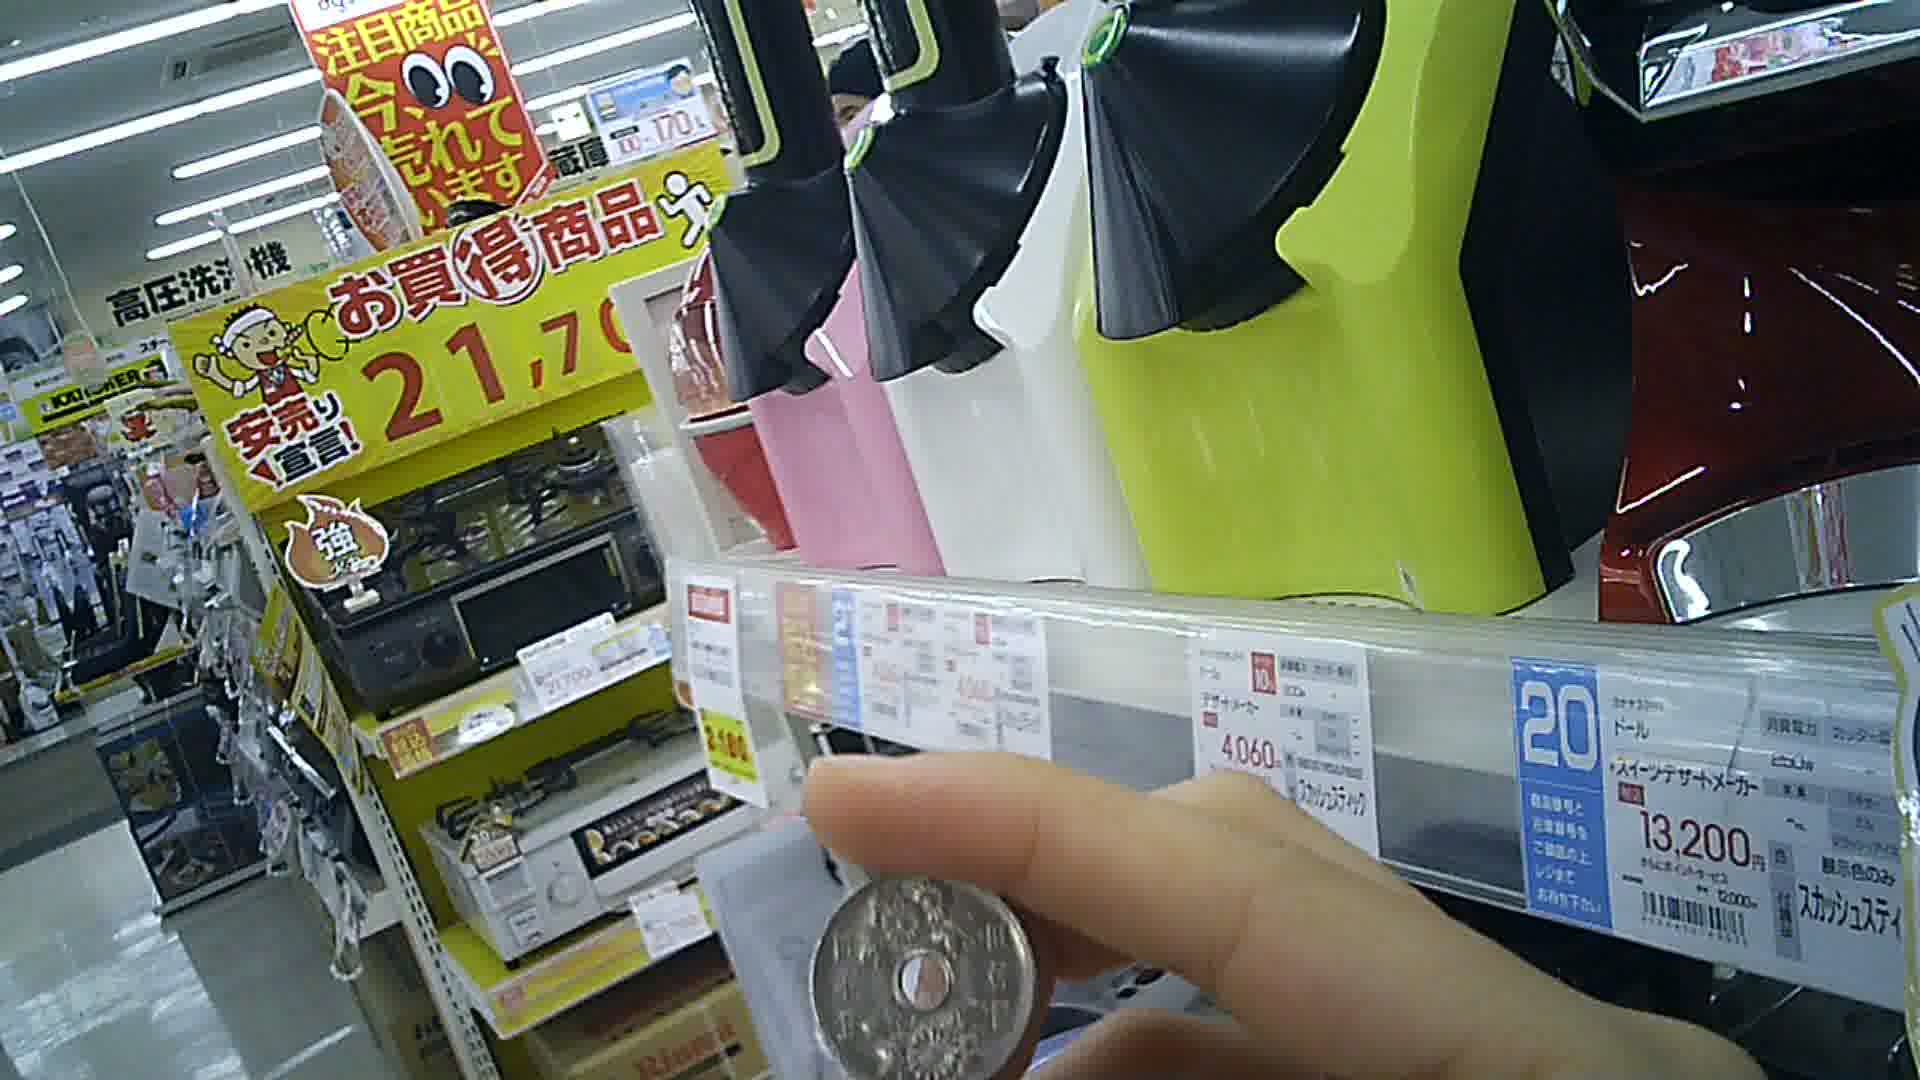50 Yen: (799, 862, 1038, 1073)
